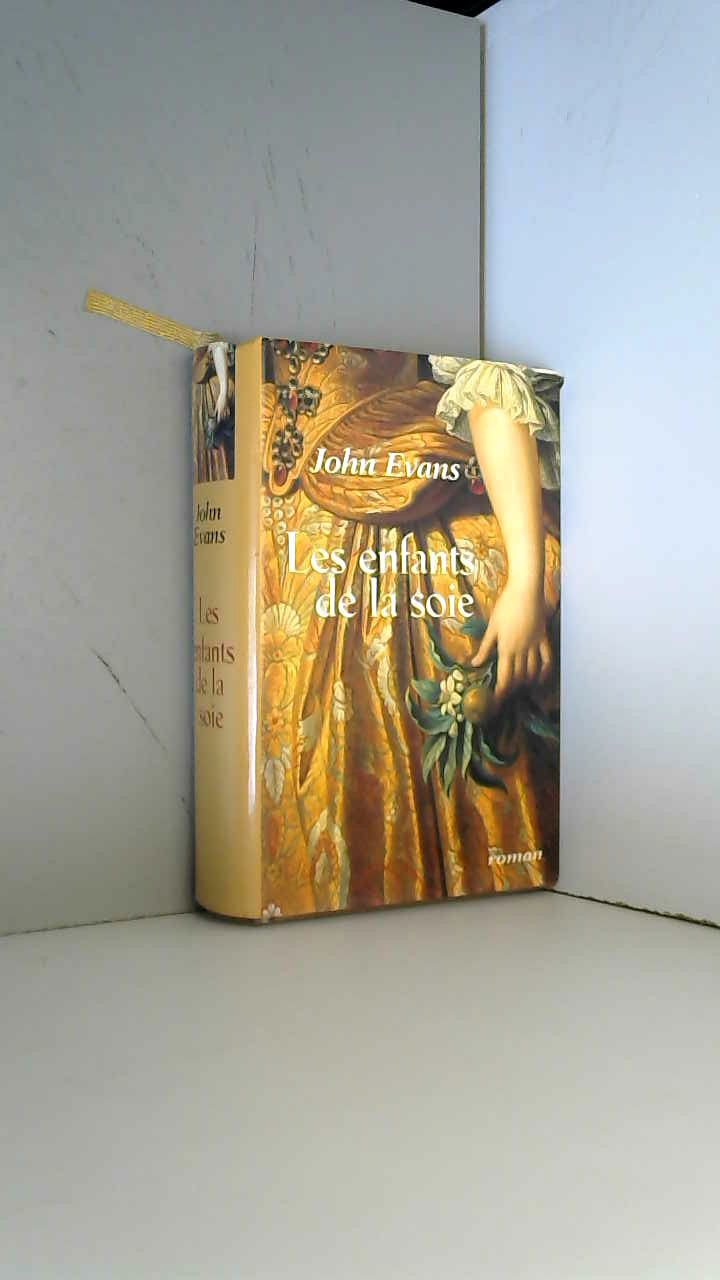book: (142, 303, 624, 957)
